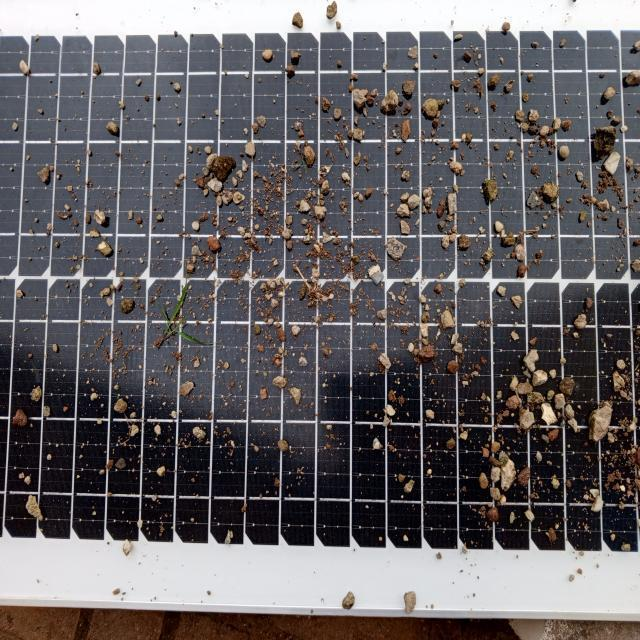Surface Contaminant: (6, 12, 639, 594)
